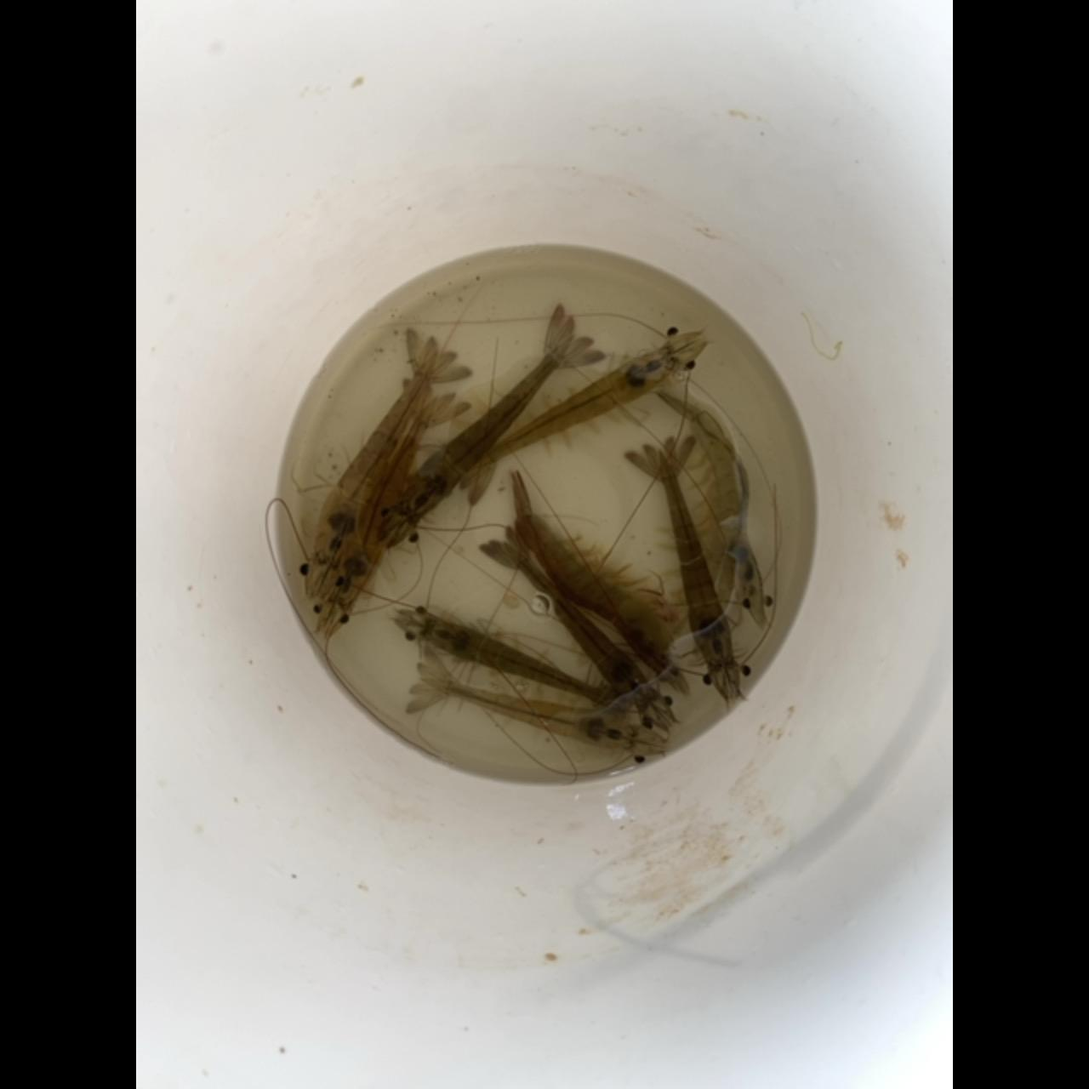top_shrimp: (395, 335, 576, 521), (515, 483, 671, 673), (313, 350, 437, 567), (465, 345, 676, 472), (502, 538, 654, 704), (327, 396, 438, 603), (422, 616, 633, 708), (673, 399, 762, 589), (660, 448, 736, 667), (419, 675, 639, 750)
